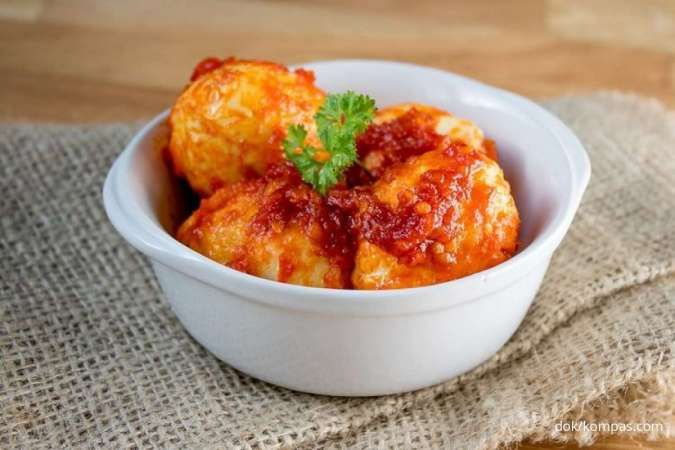telur: (199, 101, 455, 258)
